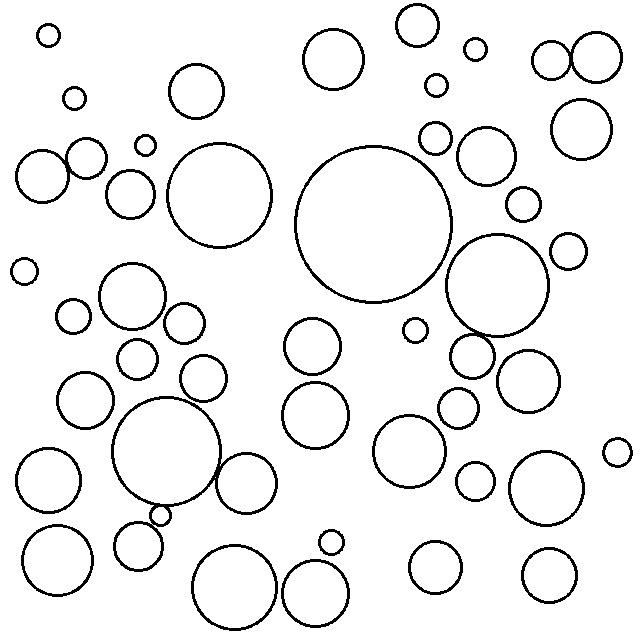circle: (292, 139, 454, 306), (110, 394, 224, 508), (445, 228, 554, 342), (164, 140, 276, 250), (188, 539, 281, 634), (508, 448, 588, 530), (369, 411, 449, 490), (17, 522, 96, 601), (278, 377, 354, 453), (281, 556, 354, 631), (11, 444, 86, 516), (95, 260, 169, 332), (495, 345, 565, 416), (299, 24, 368, 94), (213, 447, 281, 518), (547, 96, 615, 162), (454, 122, 520, 189), (280, 313, 346, 379), (55, 367, 118, 432), (519, 544, 581, 606), (406, 537, 467, 598), (166, 58, 226, 120), (13, 147, 73, 207), (103, 167, 159, 224), (569, 28, 625, 85), (110, 519, 166, 575), (175, 352, 232, 406), (445, 331, 499, 383), (391, 2, 443, 50), (113, 334, 162, 384), (436, 384, 483, 433), (161, 299, 208, 347), (452, 458, 500, 505), (64, 136, 110, 182), (527, 36, 573, 82), (50, 294, 96, 338), (548, 230, 591, 274), (501, 183, 546, 225), (416, 119, 457, 158), (598, 433, 637, 471), (8, 253, 43, 287), (400, 313, 433, 348), (314, 525, 349, 557), (59, 82, 89, 114), (422, 69, 452, 100), (131, 131, 161, 160), (461, 35, 490, 65), (35, 22, 63, 49), (147, 502, 173, 528)
